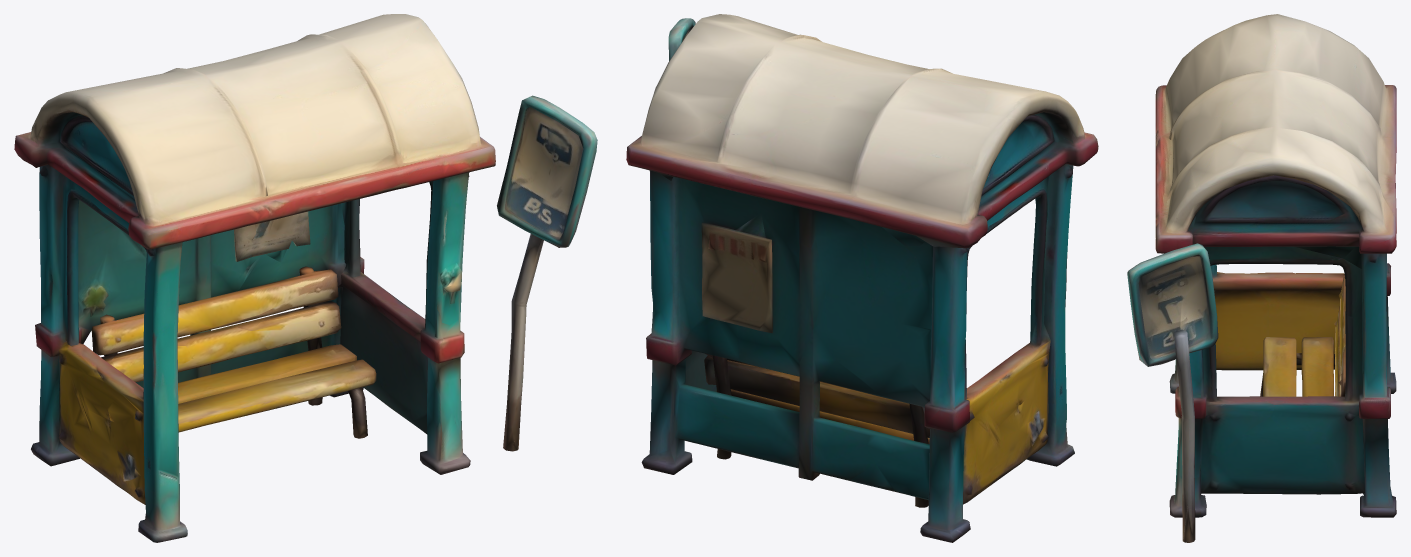
Rendered from bus_stop.glb.
3 renders of one model, left to right at view 1: azimuth 30°, elevation 25°; view 2: azimuth 150°, elevation 25°; view 3: azimuth 270°, elevation 25°, orthographic. The views are drawn at different scales.
Visible parts, largest first — view 1: tripo_part_1, tripo_part_0, tripo_part_2, tripo_part_3, tripo_part_5, tripo_part_6, tripo_part_8, tripo_part_4; view 2: tripo_part_0, tripo_part_1, tripo_part_7, tripo_part_6, tripo_part_3, tripo_part_8, tripo_part_2, tripo_part_5; view 3: tripo_part_1, tripo_part_2, tripo_part_0, tripo_part_5, tripo_part_3, tripo_part_8.
Part boxes in pixels (box(x1,y1,x2,y2)): tripo_part_1: box(14, 14, 495, 249); tripo_part_0: box(31, 165, 364, 504); tripo_part_2: box(337, 172, 470, 474); tripo_part_3: box(91, 266, 376, 438); tripo_part_5: box(497, 95, 597, 451); tripo_part_6: box(138, 242, 187, 542); tripo_part_8: box(178, 344, 356, 403); tripo_part_4: box(234, 211, 310, 262); tripo_part_0: box(641, 170, 1050, 542); tripo_part_1: box(626, 14, 1098, 248); tripo_part_7: box(701, 213, 772, 333); tripo_part_6: box(1026, 164, 1074, 466); tripo_part_3: box(704, 353, 929, 507); tripo_part_8: box(716, 389, 929, 443); tripo_part_2: box(685, 350, 716, 391); tripo_part_5: box(668, 18, 695, 60); tripo_part_1: box(1155, 14, 1396, 258); tripo_part_2: box(1169, 246, 1364, 517); tripo_part_0: box(1210, 246, 1396, 517); tripo_part_5: box(1127, 243, 1218, 542); tripo_part_3: box(1260, 277, 1345, 396); tripo_part_8: box(1296, 337, 1334, 396).
Bounding box in the file's own units: 0.9806 × 0.8671 × 0.583.
1 material, 1 textured.
